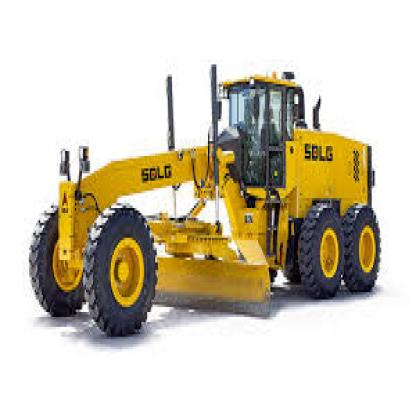bull_dozer/loader/grader: (24, 59, 384, 337)
